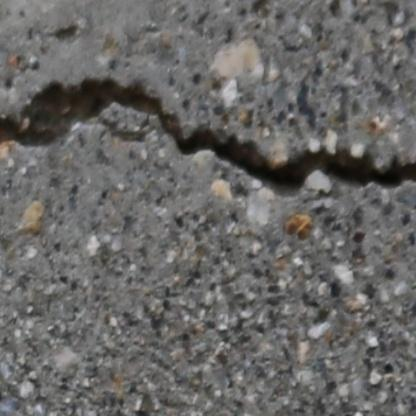Cracks: (0, 70, 416, 203)
